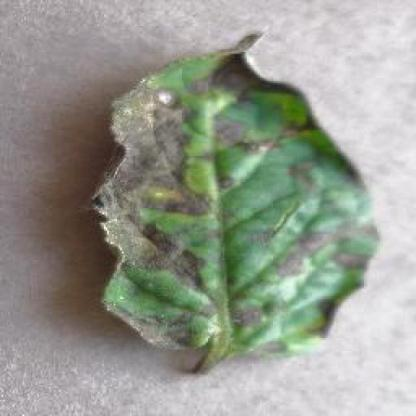Tomato_Blight: (90, 36, 380, 360)
